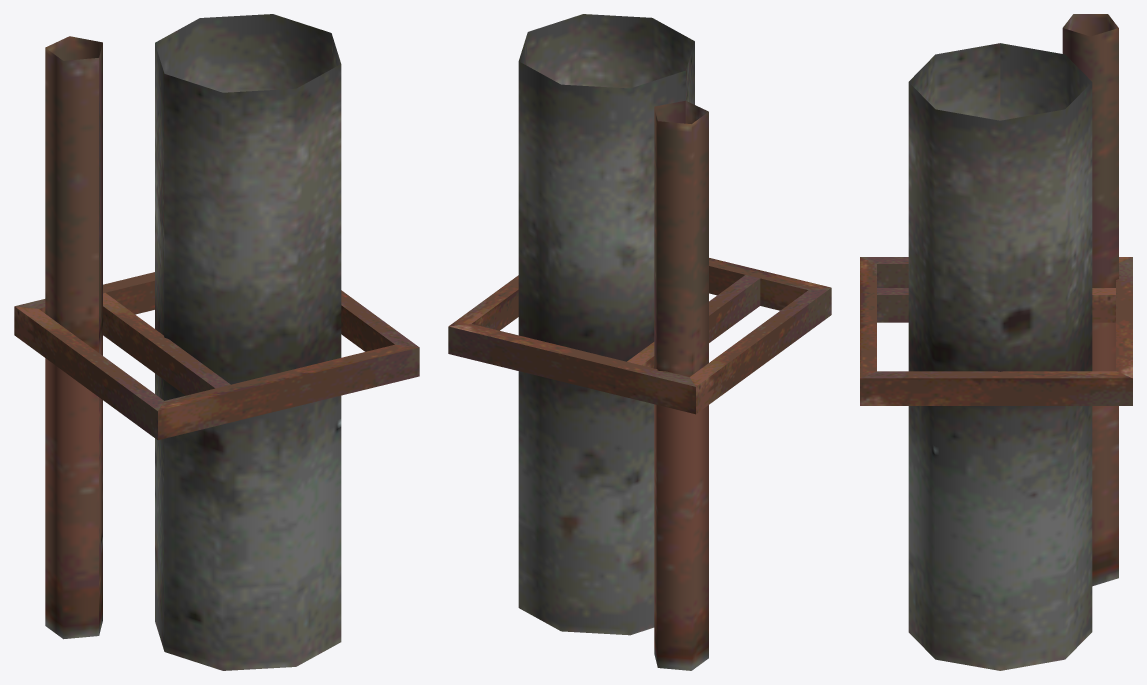
File: Pipe_vertical_short.fbx
3 renders of one model, left to right at view 1: azimuth 30°, elevation 25°; view 2: azimuth 150°, elevation 25°; view 3: azimuth 270°, elevation 25°, orthographic. The views are drawn at different scales.
Parts seen in each view (by area): view 1: Pipe_vertical_short; view 2: Pipe_vertical_short; view 3: Pipe_vertical_short.
Part boxes in pixels (bbox=[...]): Pipe_vertical_short: bbox=[14, 14, 419, 670]; Pipe_vertical_short: bbox=[448, 14, 831, 670]; Pipe_vertical_short: bbox=[860, 14, 1132, 670].
Size of the model in its own units: 109 by 229 by 103.
